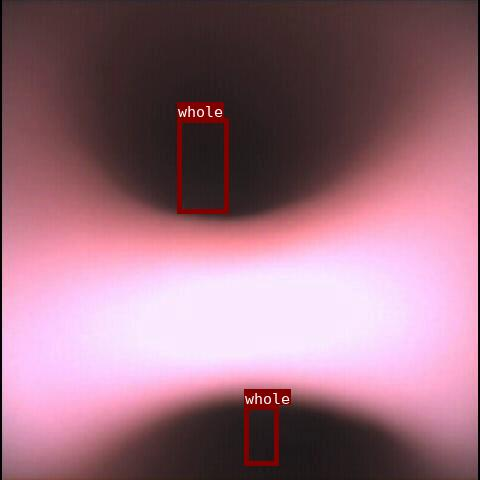whole: (177, 118, 228, 213), (244, 405, 278, 465)
